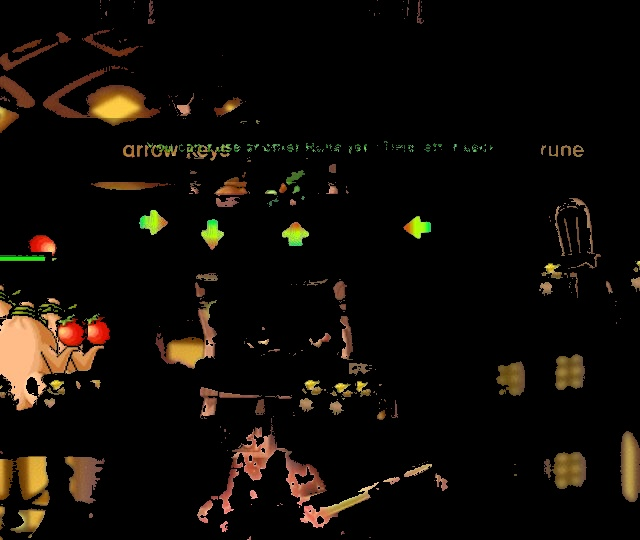rune_box: (66, 185, 473, 284)
